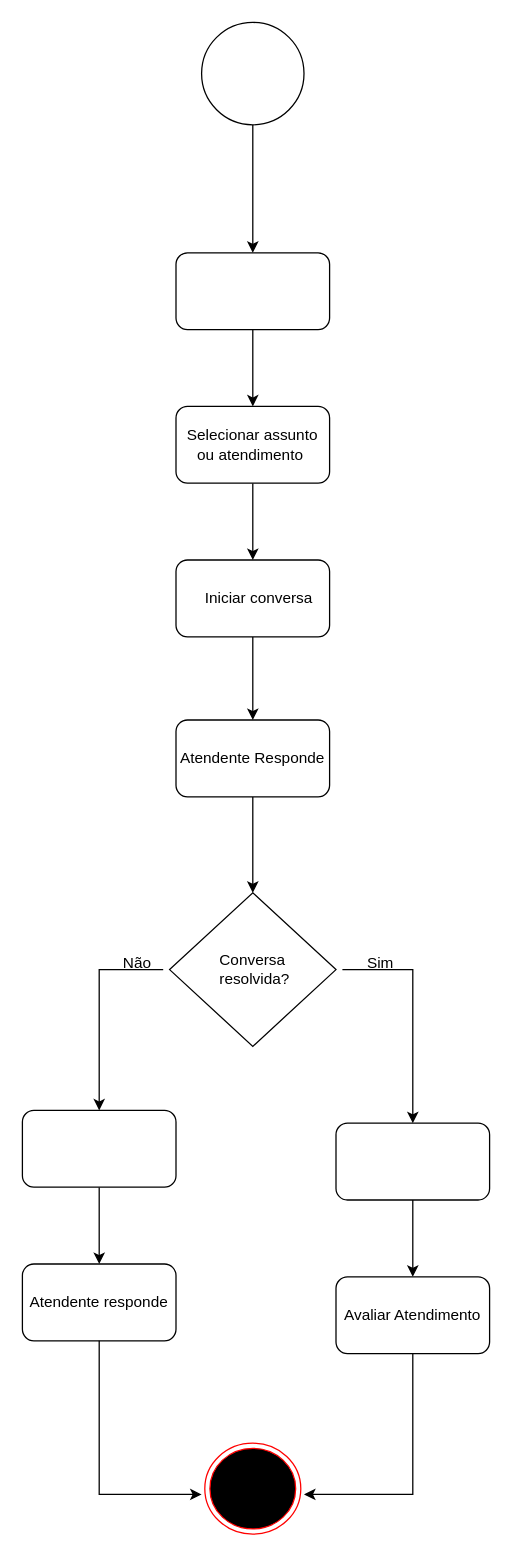
Some shapes in this 512 by 1556 pixel diagram are drawn without their labels. The centre of each missing label's shape, as x and y in pixels:
"Abrir chat" belongs at (x=252, y=291).
"Continua Conversa" belongs at (x=98, y=1148).
"Encerrar Conversa" belongs at (x=412, y=1161).
